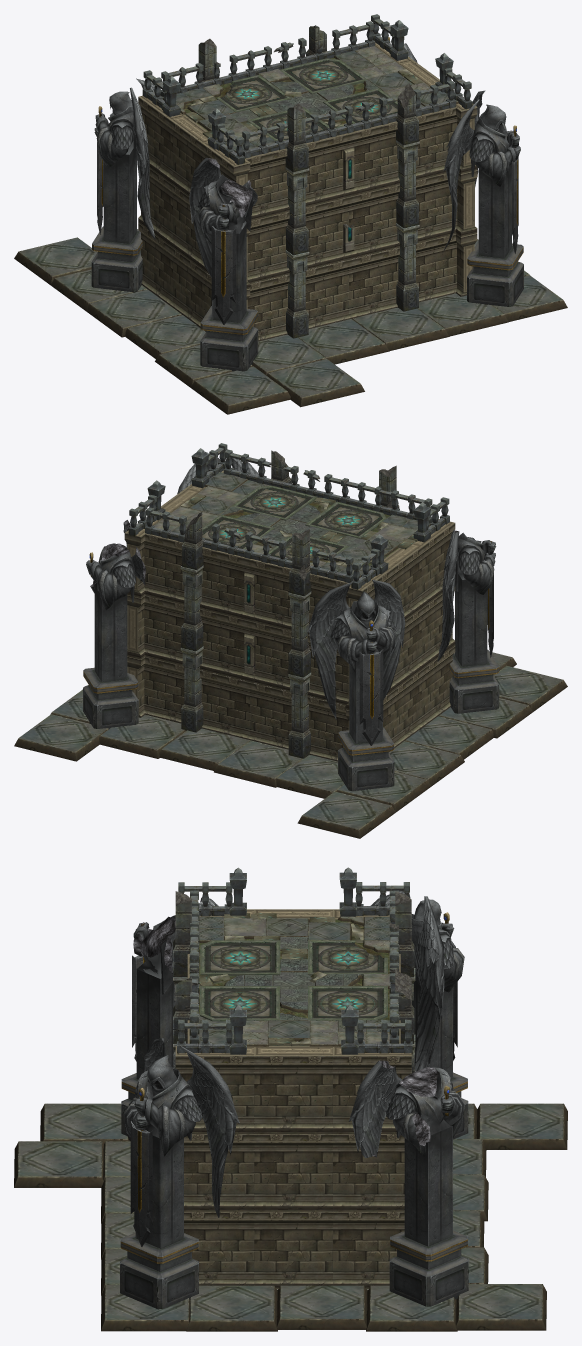
File: Cell2LR.fbx
3 views of the same model, one above another, from view 1: azimuth 30°, elevation 25°; view 2: azimuth 150°, elevation 25°; view 3: azimuth 270°, elevation 25° (orthographic). The views are drawn at different scales.
Visible parts, largest first — view 1: Cell2LR; view 2: Cell2LR; view 3: Cell2LR.
Part boxes in pixels (box(x1,y1,x2,y2)): Cell2LR: box(14, 14, 567, 414); Cell2LR: box(14, 443, 567, 838); Cell2LR: box(14, 867, 567, 1331).
Bounding box in the file's own units: 30.16 × 18.71 × 32.04.
